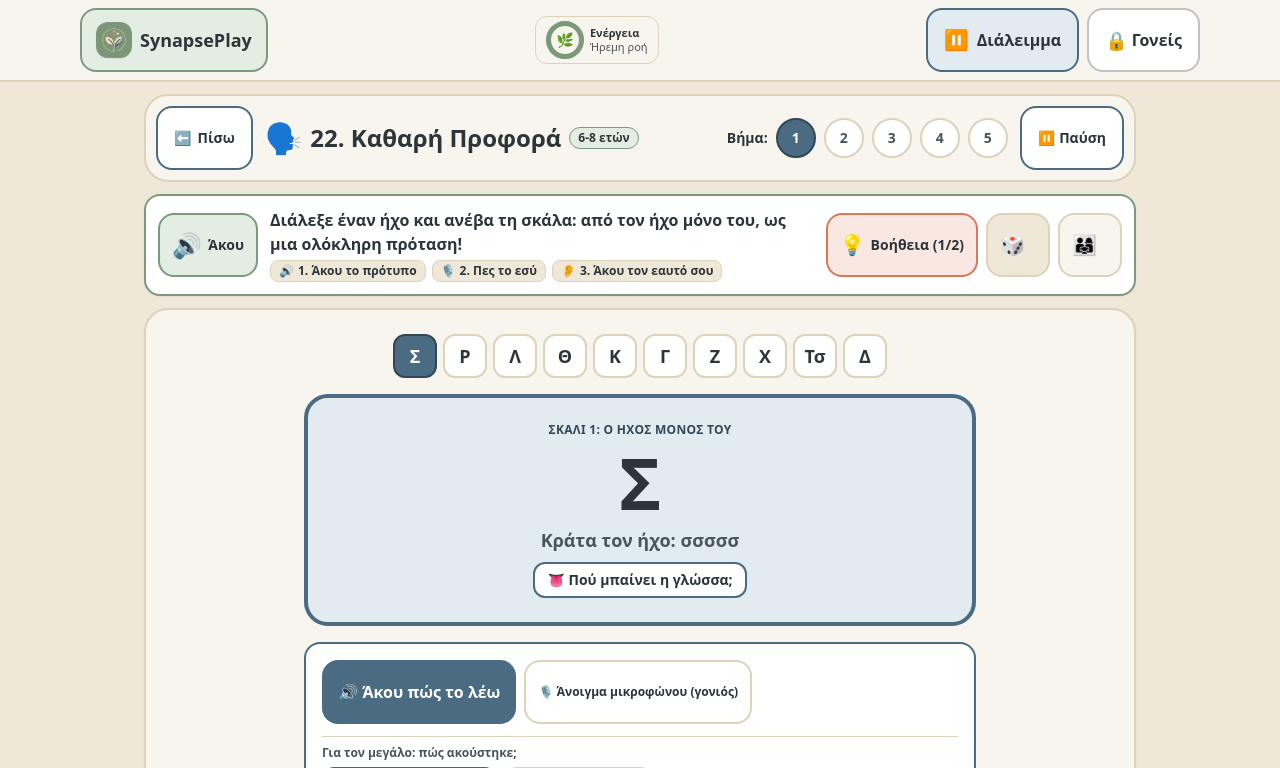
Test case: Τα παιχνίδια λόγου στην πράξη (χωρίς μικρόφωνο) › Καθαρή Προφορά: αλλαγή ήχου, «σχεδόν» μένει στο σκαλί, «καθαρά» ανεβαίνει
Step 1. Click the button with test id "clear-sound-r" → (465, 356), box [443,334,487,378]
(page scrolled)
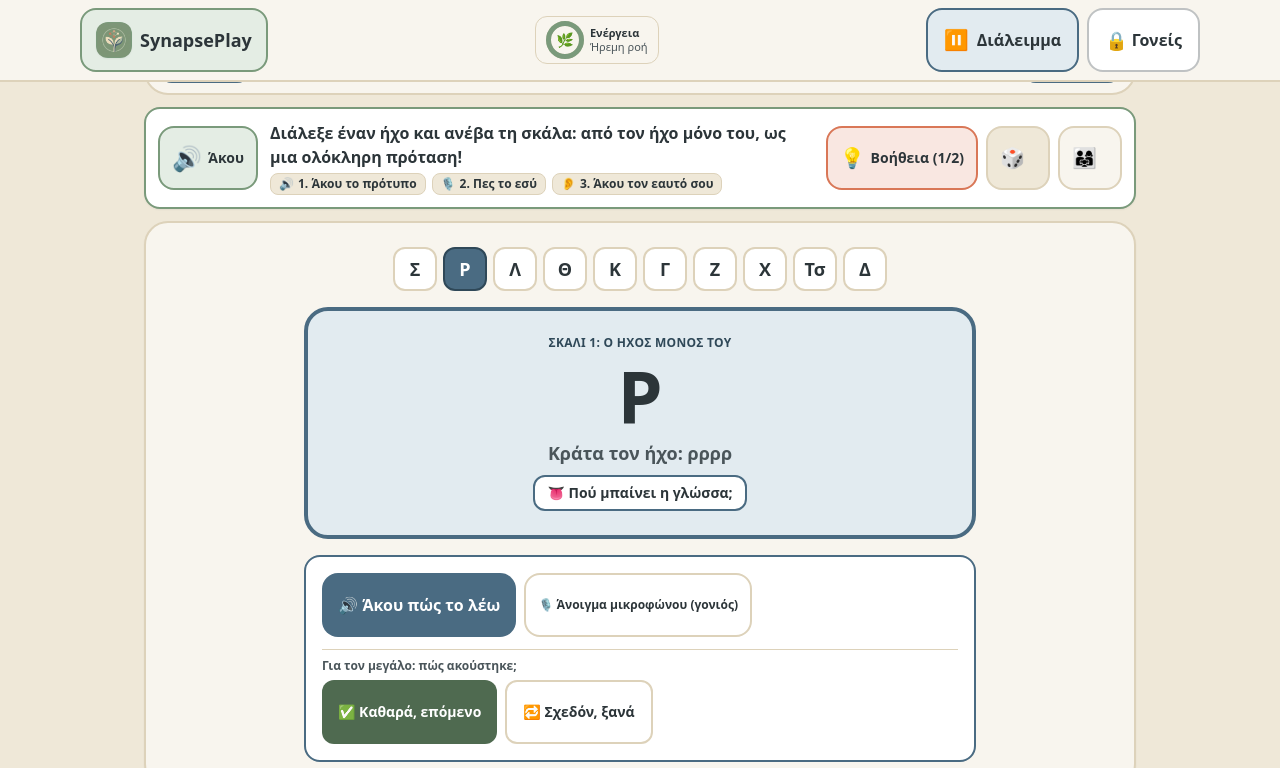
Check: the text with test id "clear-sounds-step" shows "Σκαλί 1", box [548,334,732,351]
Check: the button with test id "clear-sound-r" is pressed, box [443,247,487,291]
Step 2. Click the button with test id "voice-rate-almost-btn" → (579, 712), box [505,680,653,744]
(page scrolled)
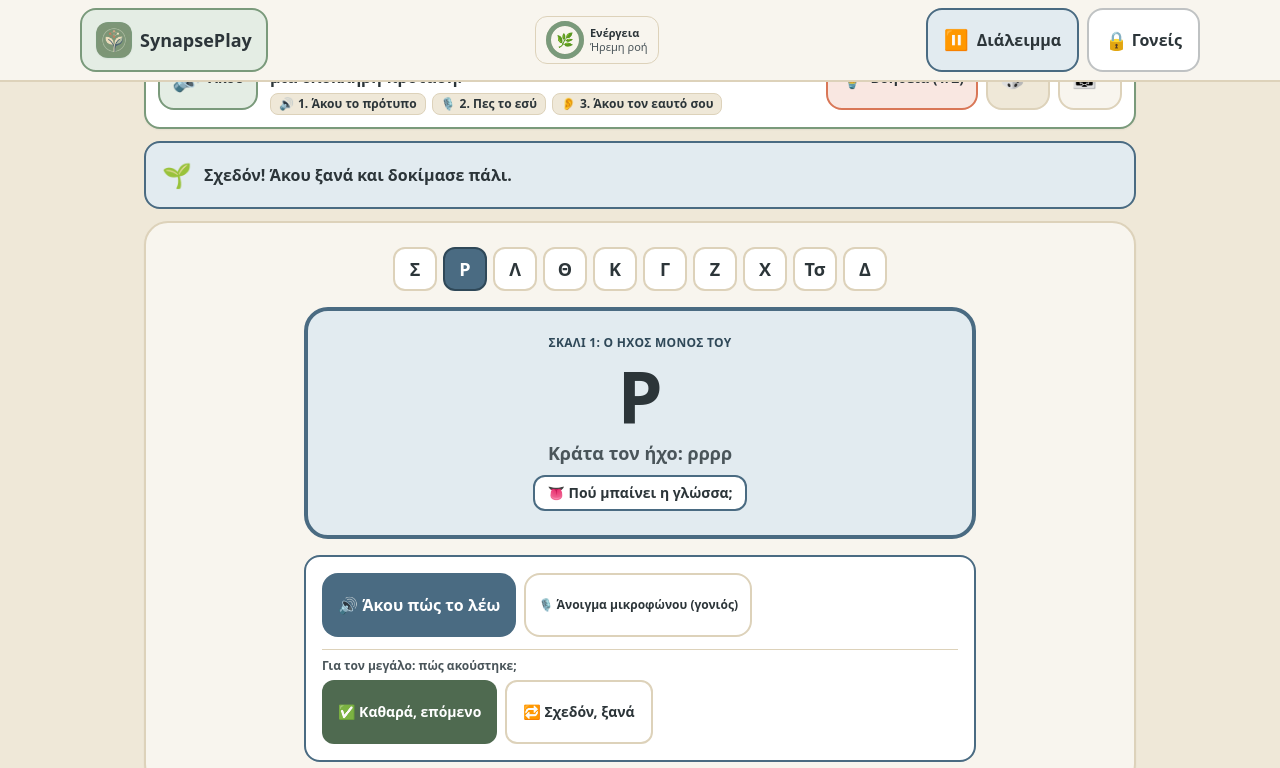
Check: the text with test id "clear-sounds-step" shows "Σκαλί 1", box [548,334,732,351]
Step 3. Click the button with test id "voice-rate-clear-btn" → (410, 712), box [322,680,497,744]
(page scrolled)
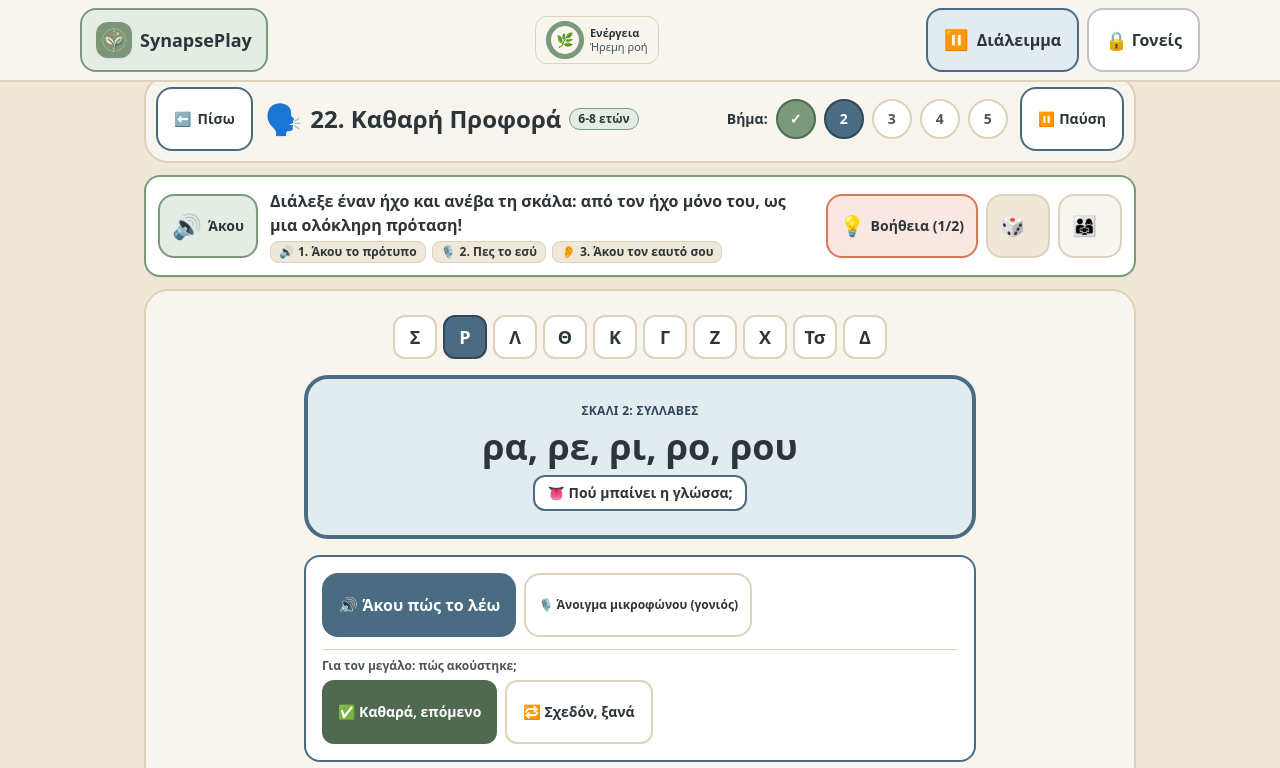
Check: the text with test id "clear-sounds-step" shows "Σκαλί 2", box [581,402,699,419]
Check: the text with test id "clear-sounds-display" shows "ρα", box [482,422,798,471]
